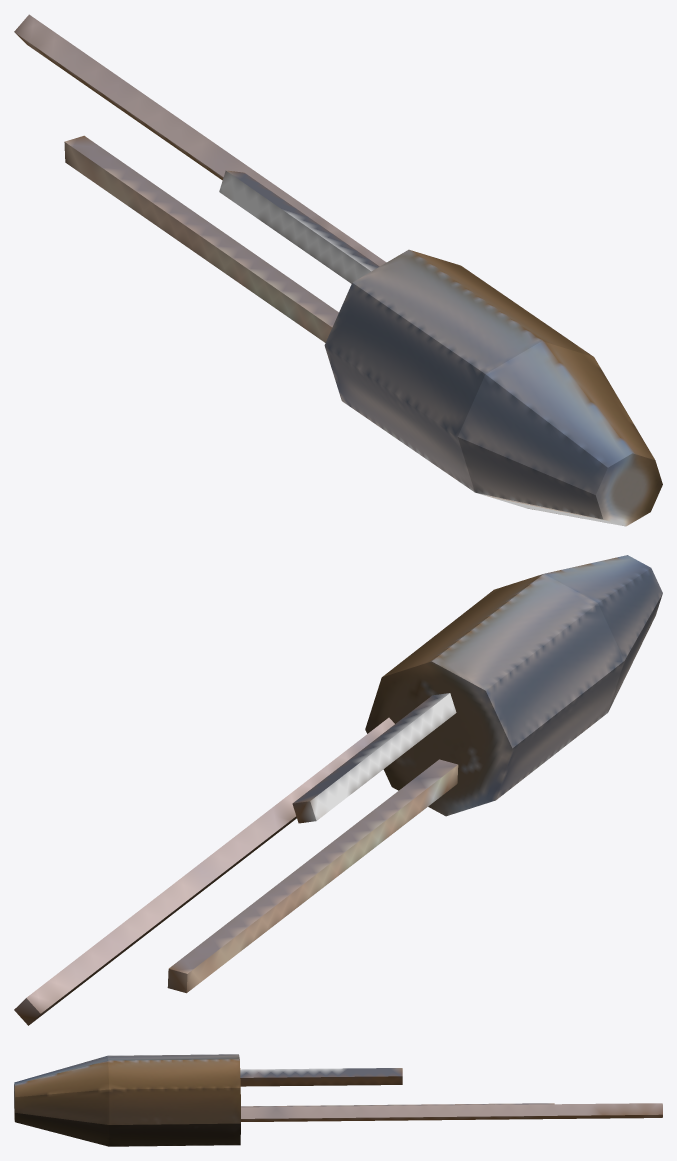
The picture shows the model from 3 angles, top to bottom: view 1: azimuth 30°, elevation 25°; view 2: azimuth 150°, elevation 25°; view 3: azimuth 270°, elevation 25°; orthographic projection. The views are drawn at different scales.
Visible parts, largest first — view 1: Bala_Cylinder.003, Estela_3_Cube.008, Estela_1_Cube.006, Estela_2_Cube.007; view 2: Bala_Cylinder.003, Estela_3_Cube.008, Estela_1_Cube.006, Estela_2_Cube.007; view 3: Bala_Cylinder.003, Estela_1_Cube.006, Estela_2_Cube.007, Estela_3_Cube.008.
Boxes of the visible parts, x1,y1,x2,y2 form: Bala_Cylinder.003: (324, 249, 662, 526); Estela_3_Cube.008: (64, 135, 338, 342); Estela_1_Cube.006: (14, 14, 386, 266); Estela_2_Cube.007: (219, 170, 379, 283); Bala_Cylinder.003: (365, 555, 662, 816); Estela_3_Cube.008: (167, 759, 458, 993); Estela_1_Cube.006: (14, 717, 394, 1025); Estela_2_Cube.007: (292, 693, 456, 823); Bala_Cylinder.003: (14, 1054, 240, 1146); Estela_1_Cube.006: (241, 1103, 662, 1121); Estela_2_Cube.007: (240, 1068, 402, 1086); Estela_3_Cube.008: (241, 1103, 554, 1107).
Size of what is drawn, in the model's own units: 0.2901 by 0.2792 by 1.94.
